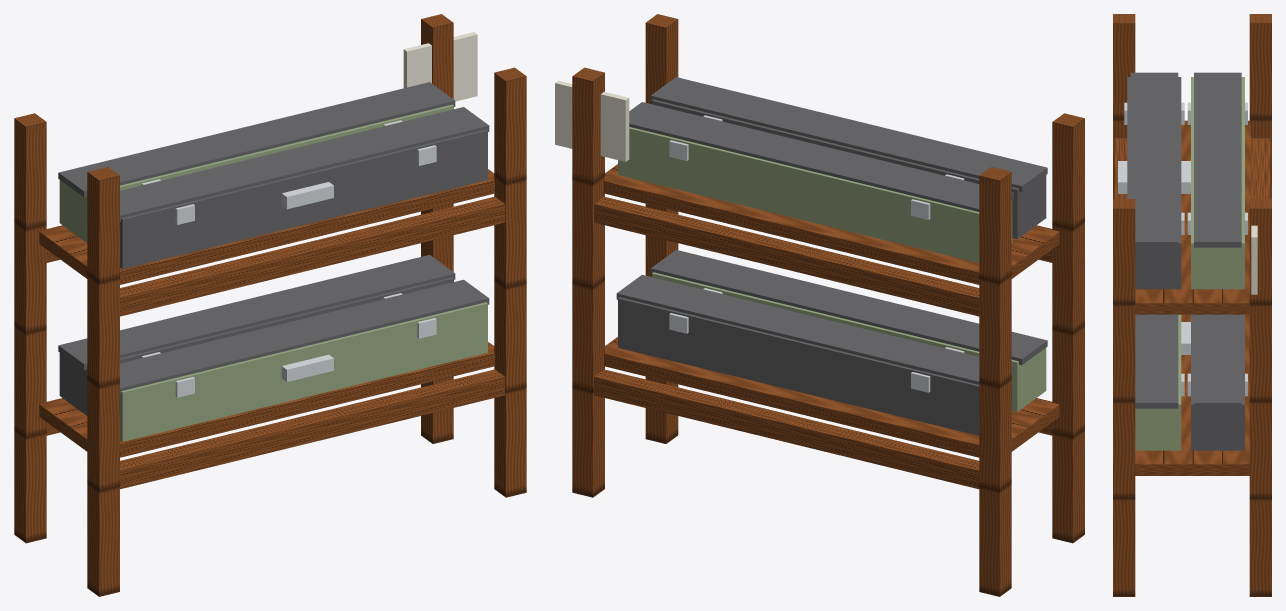
File: safari-camp-and-bush-lodge-hard-case-rack-2f67d4c5__37699.glb
3 renders of one model, left to right at view 1: azimuth 30°, elevation 25°; view 2: azimuth 150°, elevation 25°; view 3: azimuth 270°, elevation 25°, orthographic. The views are drawn at different scales.
Parts seen in each view (by area): view 1: hard-case-rack-timber, hard-case-rack-charcoal, hard-case-rack-scrub, hard-case-rack-steel, hard-case-rack-canvas; view 2: hard-case-rack-timber, hard-case-rack-charcoal, hard-case-rack-scrub, hard-case-rack-canvas, hard-case-rack-steel; view 3: hard-case-rack-timber, hard-case-rack-charcoal, hard-case-rack-scrub, hard-case-rack-steel, hard-case-rack-canvas.
Boxes of the visible parts, x1,y1,x2,y2 form: hard-case-rack-timber: [14, 14, 526, 596]; hard-case-rack-charcoal: [58, 82, 489, 415]; hard-case-rack-scrub: [59, 104, 487, 441]; hard-case-rack-steel: [141, 120, 436, 397]; hard-case-rack-canvas: [403, 32, 477, 101]; hard-case-rack-timber: [572, 14, 1084, 596]; hard-case-rack-charcoal: [616, 77, 1047, 435]; hard-case-rack-scrub: [618, 127, 1046, 411]; hard-case-rack-canvas: [555, 80, 629, 161]; hard-case-rack-steel: [669, 115, 964, 392]; hard-case-rack-timber: [1113, 14, 1271, 596]; hard-case-rack-charcoal: [1127, 72, 1244, 450]; hard-case-rack-scrub: [1135, 77, 1244, 450]; hard-case-rack-steel: [1118, 102, 1247, 396]; hard-case-rack-canvas: [1251, 225, 1257, 294].
Bounding box in the file's own units: 1.54 × 1.35 × 0.4999.
Materials: 5 (1 with a texture image).
